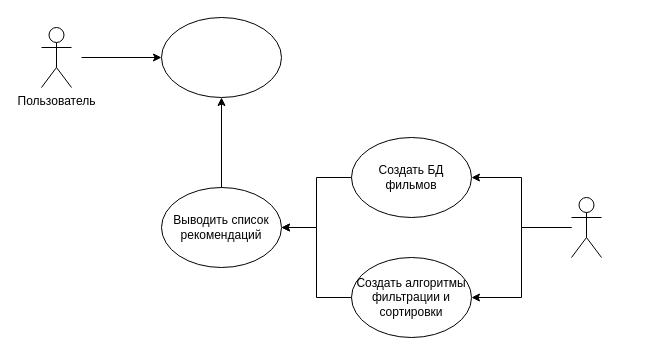
This 647x355 diagram has some shape labels left out. The shapes that lost their labels are listed below. From the top down, each one's box as (x1, y1, x2, y2) in pixels, then its label:
(160, 16, 282, 98): Просмотреть список рекомендаций
(570, 196, 602, 258): Администратор
